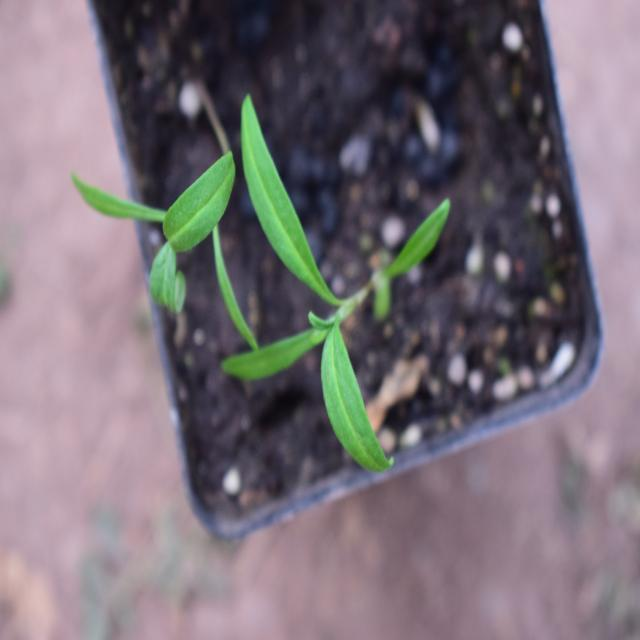white_smart_weed: (243, 110, 422, 488), (79, 140, 261, 380)
